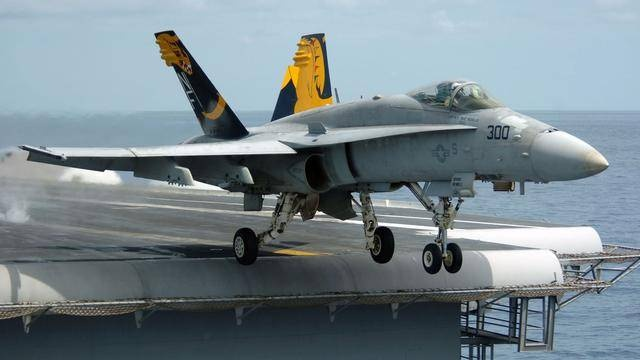airplane: (9, 26, 612, 274)
